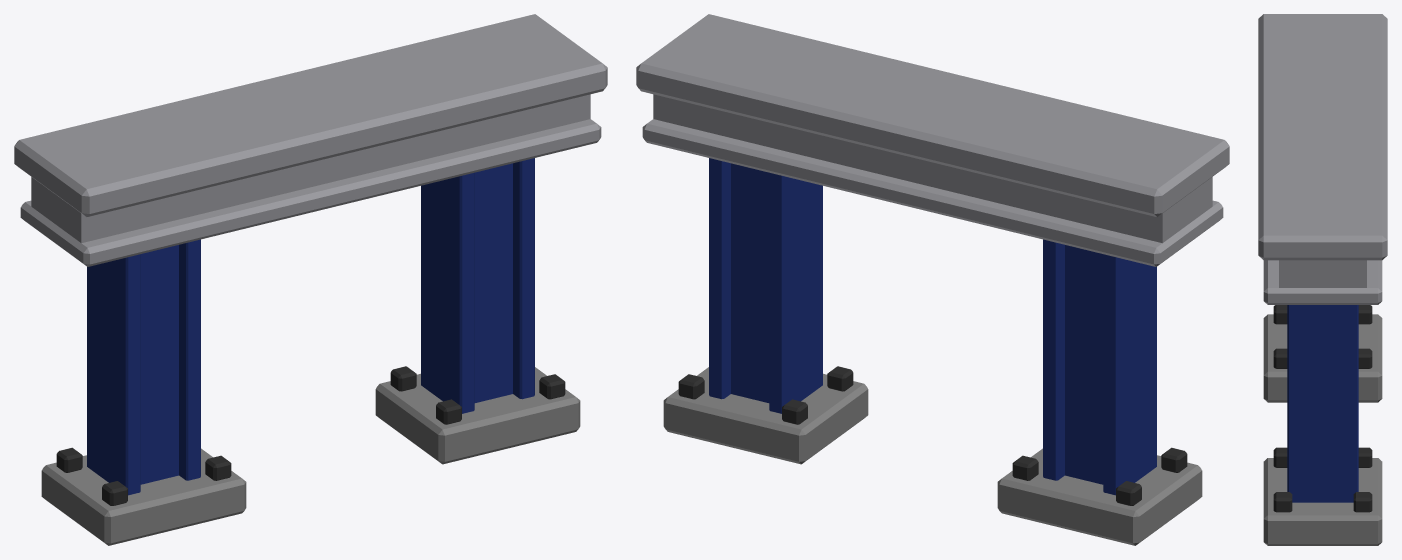
File: TrainingSteel.fbx
3 renders of one model, left to right at view 1: azimuth 30°, elevation 25°; view 2: azimuth 150°, elevation 25°; view 3: azimuth 270°, elevation 25°, orthographic. The views are drawn at different scales.
Parts seen in each view (by area): view 1: SteelBeam, SteelStand_Posts, SteelStand_Plates, SteelStand_Bolts; view 2: SteelBeam, SteelStand_Posts, SteelStand_Plates, SteelStand_Bolts; view 3: SteelBeam, SteelStand_Posts, SteelStand_Plates, SteelStand_Bolts.
Part boxes in pixels (box(x1,y1,x2,y2)): SteelBeam: box(14, 14, 607, 266); SteelStand_Posts: box(87, 158, 534, 495); SteelStand_Plates: box(41, 367, 580, 545); SteelStand_Bolts: box(56, 366, 565, 505); SteelBeam: box(636, 14, 1229, 266); SteelStand_Posts: box(709, 158, 1156, 495); SteelStand_Plates: box(663, 367, 1202, 545); SteelStand_Bolts: box(678, 366, 1187, 505); SteelBeam: box(1258, 14, 1387, 304); SteelStand_Posts: box(1287, 305, 1358, 502); SteelStand_Plates: box(1263, 314, 1382, 545); SteelStand_Bolts: box(1273, 305, 1372, 512).
Size of the model in its own units: 6.3 by 4.17 by 1.52.
